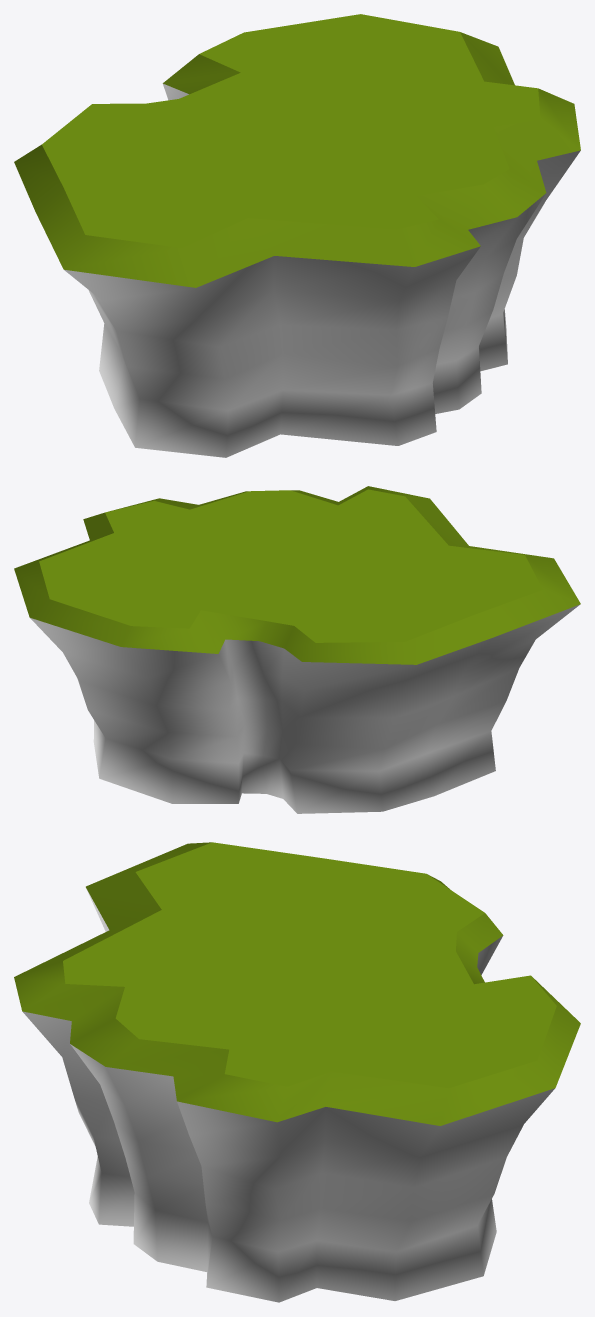
File: ModelTest1 1.fbx
3 views of the same model, one above another, from view 1: azimuth 30°, elevation 25°; view 2: azimuth 150°, elevation 25°; view 3: azimuth 270°, elevation 25° (orthographic). The views are drawn at different scales.
Visible parts, largest first — view 1: Plane.004; view 2: Plane.004; view 3: Plane.004.
Boxes of the visible parts, x1,y1,x2,y2 form: Plane.004: [14, 14, 580, 457]; Plane.004: [14, 486, 580, 813]; Plane.004: [14, 842, 580, 1302].
Size of the model in its own units: 1960 by 779 by 1683.
